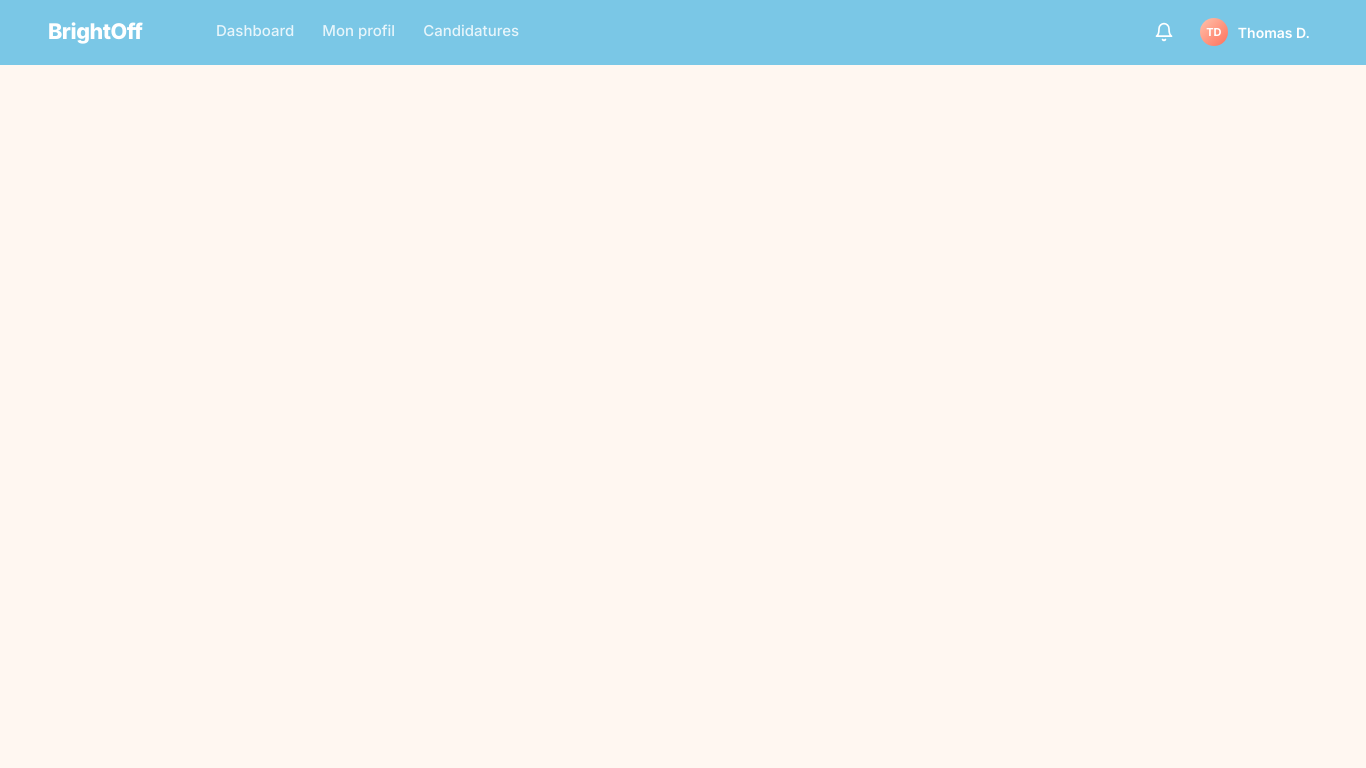
Test: NavApp › click_outside_closes_dropdown
Click the button "TD Thomas D.".
click(1257, 32)  # box [1196, 14, 1318, 50]
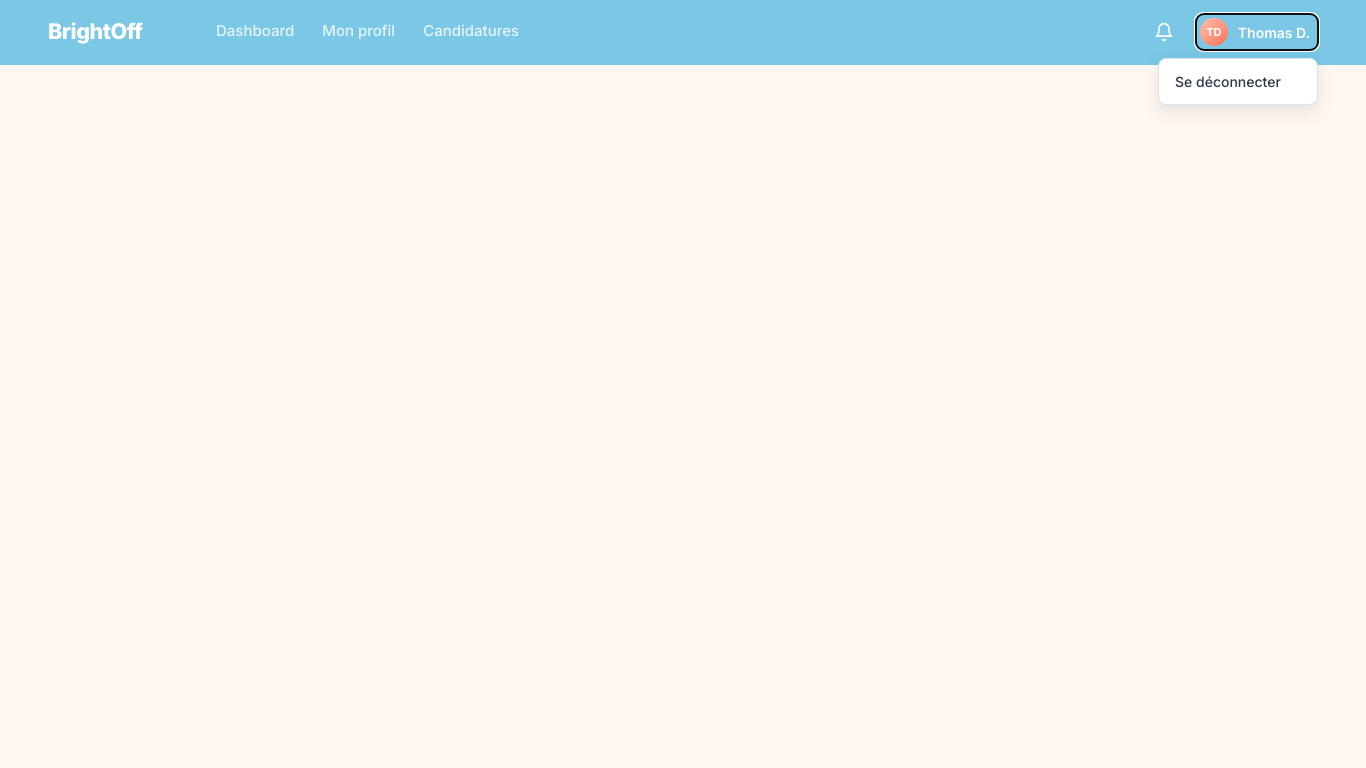
Expected: the button "Se déconnecter" is shown, [1159, 59, 1317, 104]
// Cliquer ailleurs
Click the element named "BrightOff".
click(683, 384)  # box [0, 0, 1365, 767]
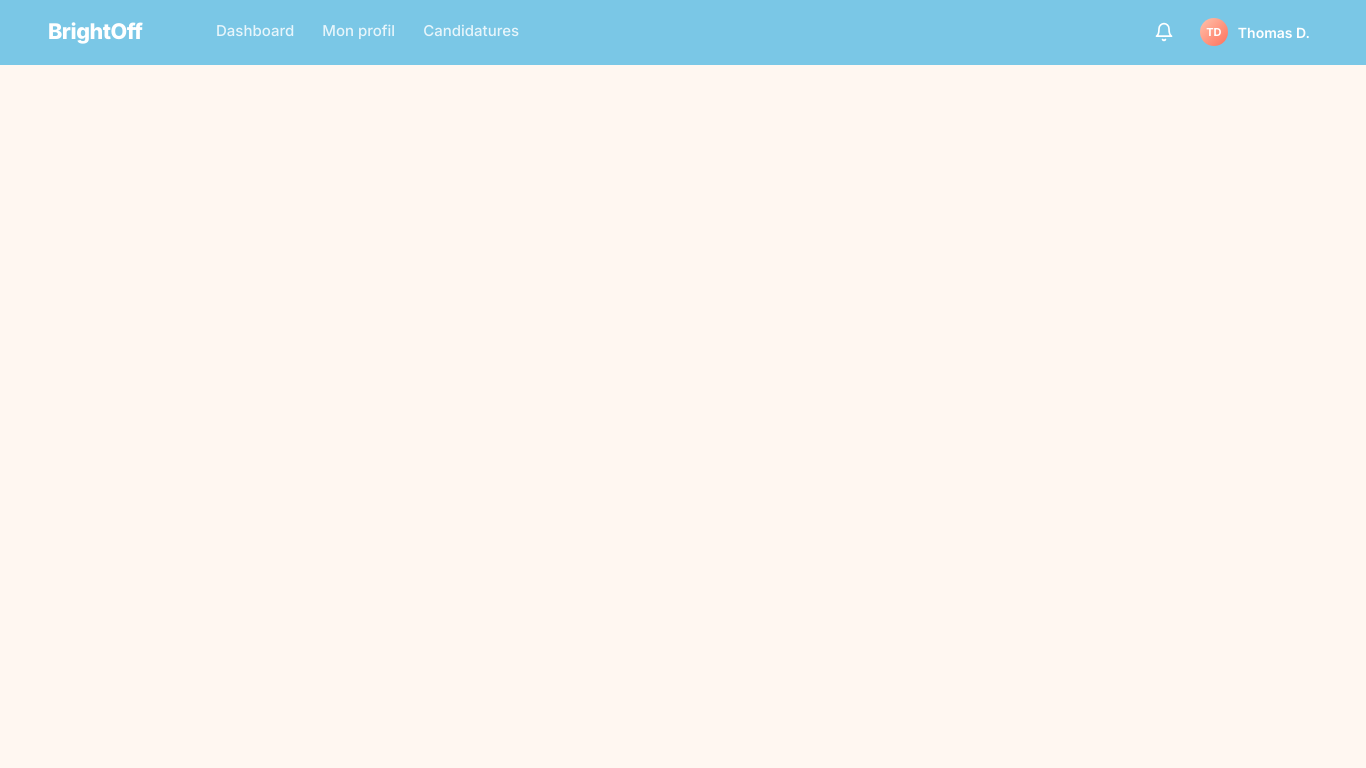
Expected: the button "Se déconnecter" is gone
